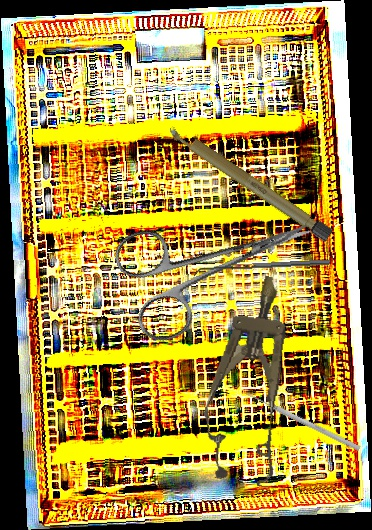Iris Scissors: (108, 177, 332, 349)
Pusher: (244, 389, 362, 453)
Scalpel Handle: (165, 121, 335, 243)
Spatula Surgical: (193, 259, 331, 277)
Speculum: (193, 269, 310, 489)
